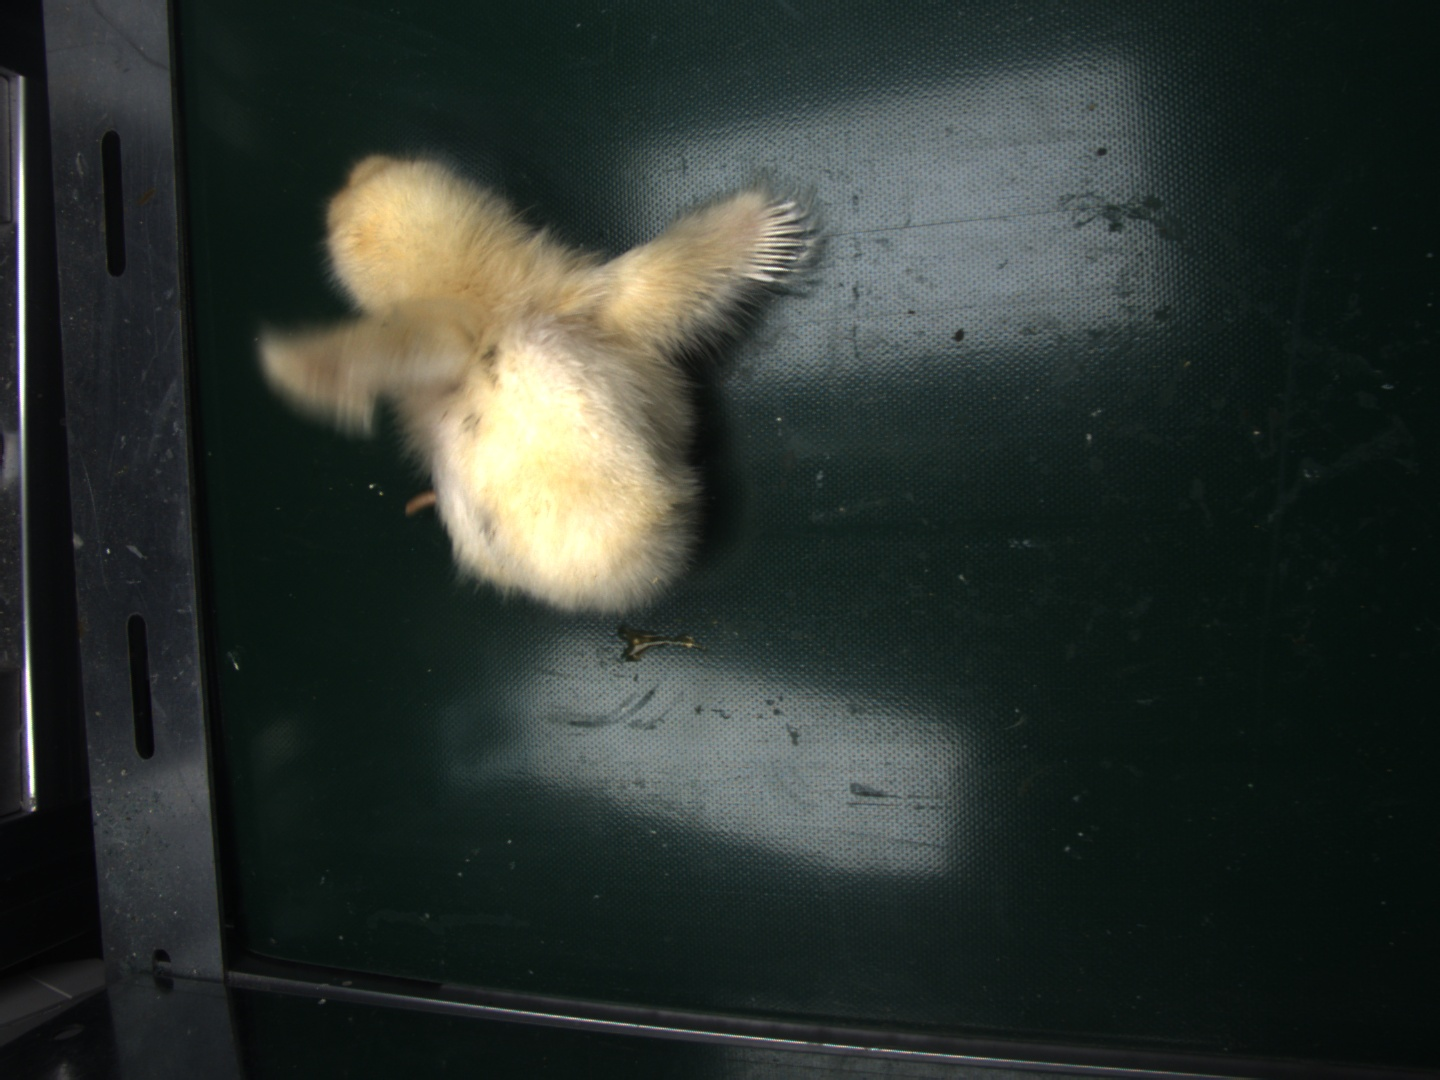male: (752, 201, 807, 282)
